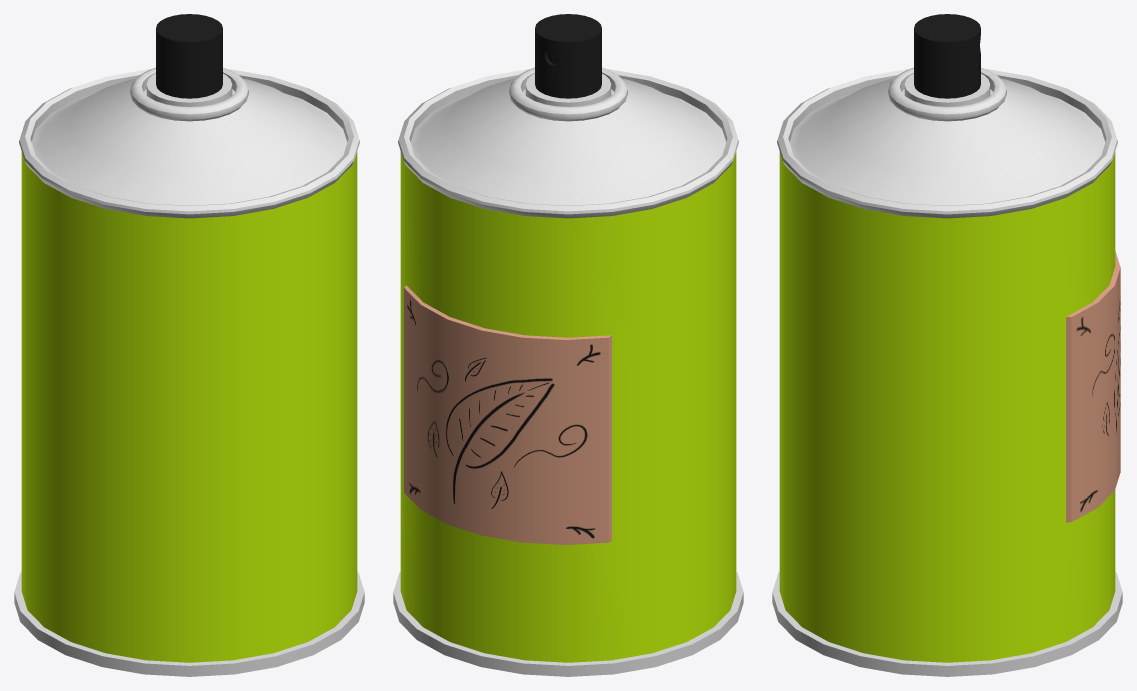
The model's file is sprayVerde.fbx.
3 views of the same model, side by side, from view 1: azimuth 30°, elevation 25°; view 2: azimuth 150°, elevation 25°; view 3: azimuth 270°, elevation 25° (orthographic).
Parts seen in each view (by area): view 1: Spray.003; view 2: Spray.003; view 3: Spray.003.
Part boxes in pixels (left/top/right/bottom): Spray.003: left=14, top=14, right=364, bottom=676; Spray.003: left=393, top=14, right=743, bottom=676; Spray.003: left=772, top=14, right=1122, bottom=676.
Size of the model in its own units: 45.88 by 83.07 by 45.88.
